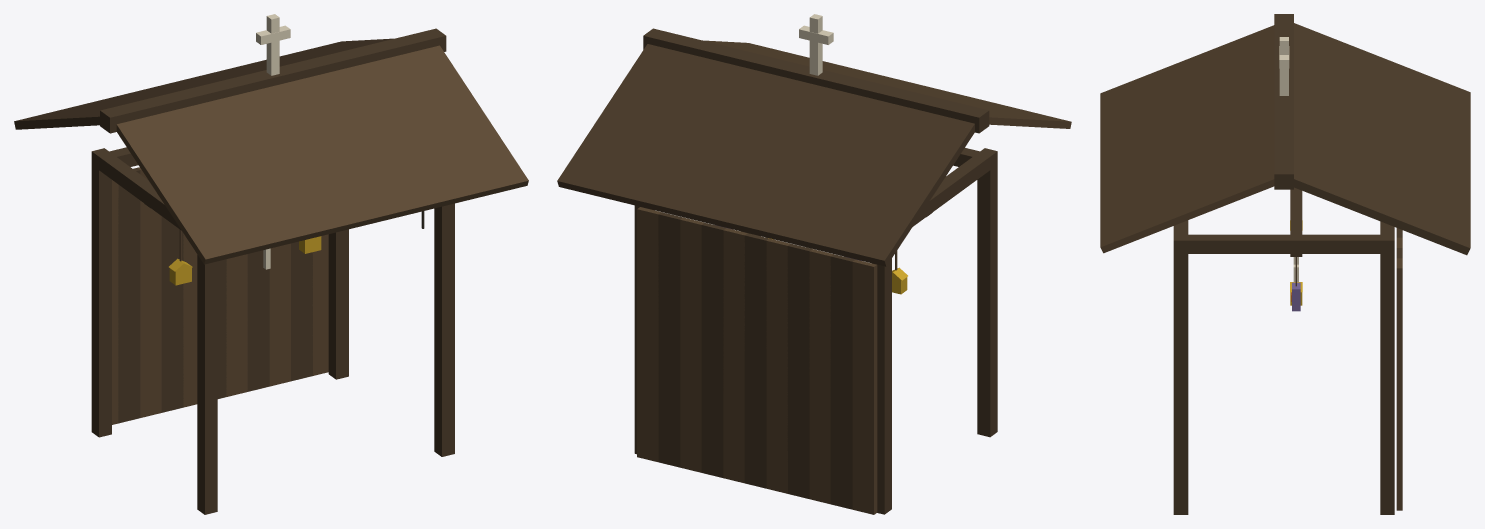
The model's file is MarketPardonerBooth.fbx.
3 renders of one model, left to right at view 1: azimuth 30°, elevation 25°; view 2: azimuth 150°, elevation 25°; view 3: azimuth 270°, elevation 25°, orthographic. The views are drawn at different scales.
Visible parts, largest first — view 1: MarketPardonerBooth; view 2: MarketPardonerBooth; view 3: MarketPardonerBooth.
Part boxes in pixels (left/top/right/bottom): MarketPardonerBooth: left=14, top=14, right=528, bottom=514; MarketPardonerBooth: left=557, top=14, right=1071, bottom=514; MarketPardonerBooth: left=1100, top=14, right=1470, bottom=514.
Size of the model in its own units: 312 by 378 by 305.
Materials: 7 (7 with a texture image).
